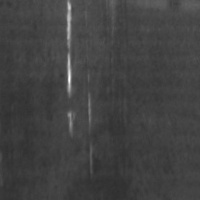scratches: (59, 0, 84, 133)
